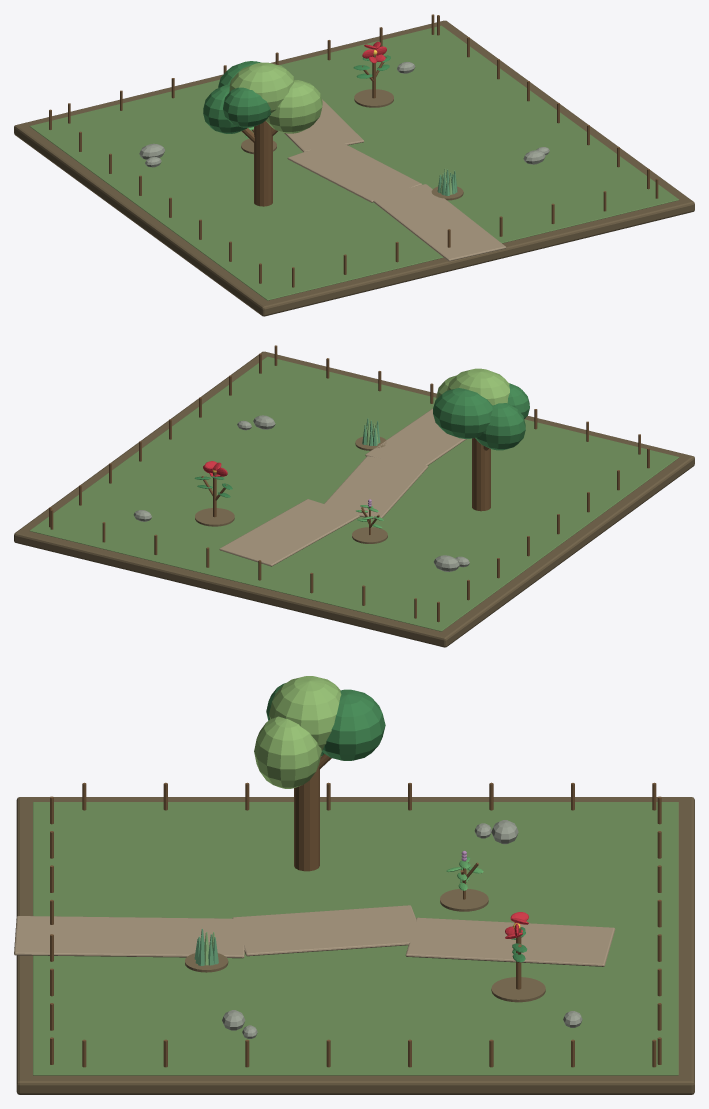
The model's file is phase4-poc-garden.glb.
The picture shows the model from 3 angles, top to bottom: view 1: azimuth 30°, elevation 25°; view 2: azimuth 150°, elevation 25°; view 3: azimuth 270°, elevation 25°; orthographic projection. The views are drawn at different scales.
Parts seen in each view (by area): view 1: Garden_Grass_Inset, Garden_Ground, Path_0, Path_1, Neem_Canopy_1, Neem_Canopy_3, Path_2, Neem_Trunk, Neem_Canopy_4, Neem_Canopy_0, Planting_Bed_2; view 2: Garden_Grass_Inset, Garden_Ground, Path_2, Path_1, Path_0, Neem_Canopy_2, Neem_Canopy_0, Neem_Canopy_3, Neem_Trunk, Planting_Bed_2, Planting_Bed_0, Neem_Canopy_4; view 3: Garden_Grass_Inset, Garden_Ground, Path_0, Path_2, Path_1, Neem_Canopy_1, Neem_Canopy_3, Neem_Canopy_2, Neem_Trunk, Planting_Bed_2, Planting_Bed_0.
Part boxes in pixels (x1,y1,x2,y2): Garden_Grass_Inset: [29, 25, 678, 300]; Garden_Ground: [14, 20, 694, 316]; Path_0: [370, 184, 506, 261]; Path_1: [287, 143, 422, 202]; Neem_Canopy_1: [265, 80, 322, 133]; Neem_Canopy_3: [229, 62, 294, 112]; Path_2: [284, 99, 364, 152]; Neem_Trunk: [254, 121, 272, 206]; Neem_Canopy_4: [223, 87, 271, 127]; Neem_Canopy_0: [203, 84, 246, 133]; Planting_Bed_2: [354, 89, 393, 107]; Garden_Grass_Inset: [30, 356, 679, 631]; Garden_Ground: [14, 351, 694, 647]; Path_2: [219, 499, 359, 566]; Path_1: [321, 456, 428, 518]; Path_0: [365, 408, 466, 468]; Neem_Canopy_2: [433, 388, 492, 438]; Neem_Canopy_0: [475, 403, 525, 450]; Neem_Canopy_3: [447, 368, 509, 405]; Neem_Trunk: [472, 438, 490, 511]; Planting_Bed_2: [195, 508, 234, 526]; Planting_Bed_0: [352, 527, 387, 543]; Neem_Canopy_4: [507, 383, 529, 418]; Garden_Grass_Inset: [33, 802, 678, 1075]; Garden_Ground: [16, 797, 694, 1094]; Path_0: [14, 916, 244, 958]; Path_2: [405, 917, 615, 966]; Path_1: [232, 905, 423, 956]; Neem_Canopy_1: [254, 716, 321, 788]; Neem_Canopy_3: [269, 676, 341, 750]; Neem_Canopy_2: [322, 689, 385, 760]; Neem_Trunk: [294, 765, 319, 871]; Planting_Bed_2: [491, 977, 545, 1002]; Planting_Bed_0: [440, 888, 488, 911].
Size of the model in its own units: 25 by 8.11 by 25.1.
